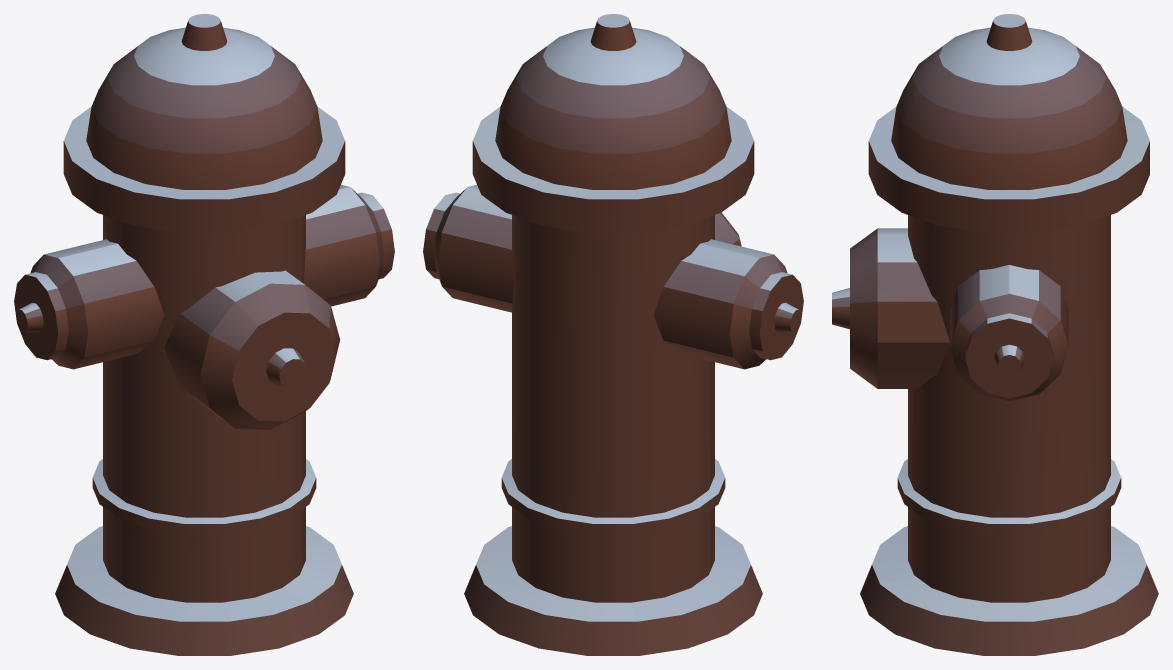
File: hydrant.glb
3 renders of one model, left to right at view 1: azimuth 30°, elevation 25°; view 2: azimuth 150°, elevation 25°; view 3: azimuth 270°, elevation 25°, orthographic.
Visible parts, largest first — view 1: Prop; view 2: Prop; view 3: Prop.
Boxes of the visible parts, left/top/right/bottom form: Prop: left=14, top=14, right=394, bottom=655; Prop: left=423, top=14, right=803, bottom=655; Prop: left=832, top=14, right=1158, bottom=655.
Bounding box in the file's own units: 0.5151 × 0.7724 × 0.3992.
